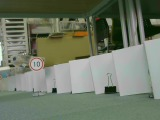speed_10: (28, 56, 45, 72)
